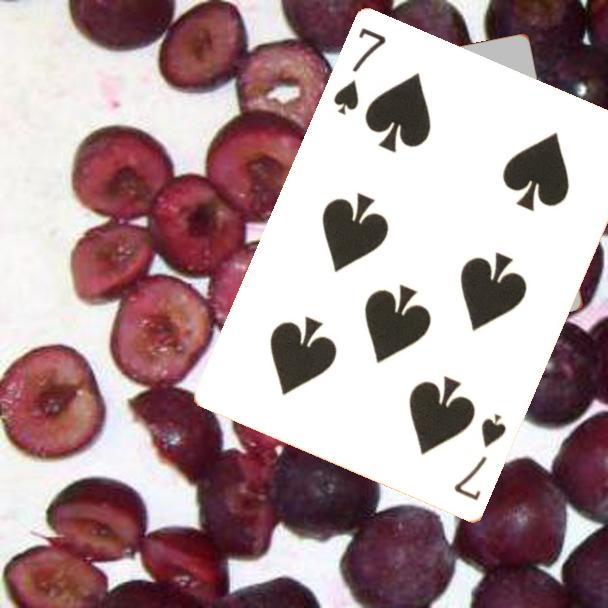s07: (330, 24, 390, 119), (450, 411, 510, 505)
